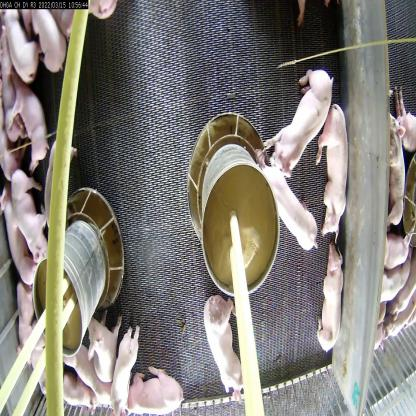Pig: (267, 54, 333, 186), (265, 155, 318, 257), (205, 287, 246, 395), (320, 102, 352, 240), (0, 185, 38, 301), (5, 162, 45, 272), (124, 360, 190, 416), (6, 67, 46, 157), (0, 0, 41, 86), (60, 339, 112, 406), (27, 0, 70, 81), (317, 226, 344, 354), (378, 111, 408, 224), (111, 322, 141, 416), (87, 310, 122, 390)
